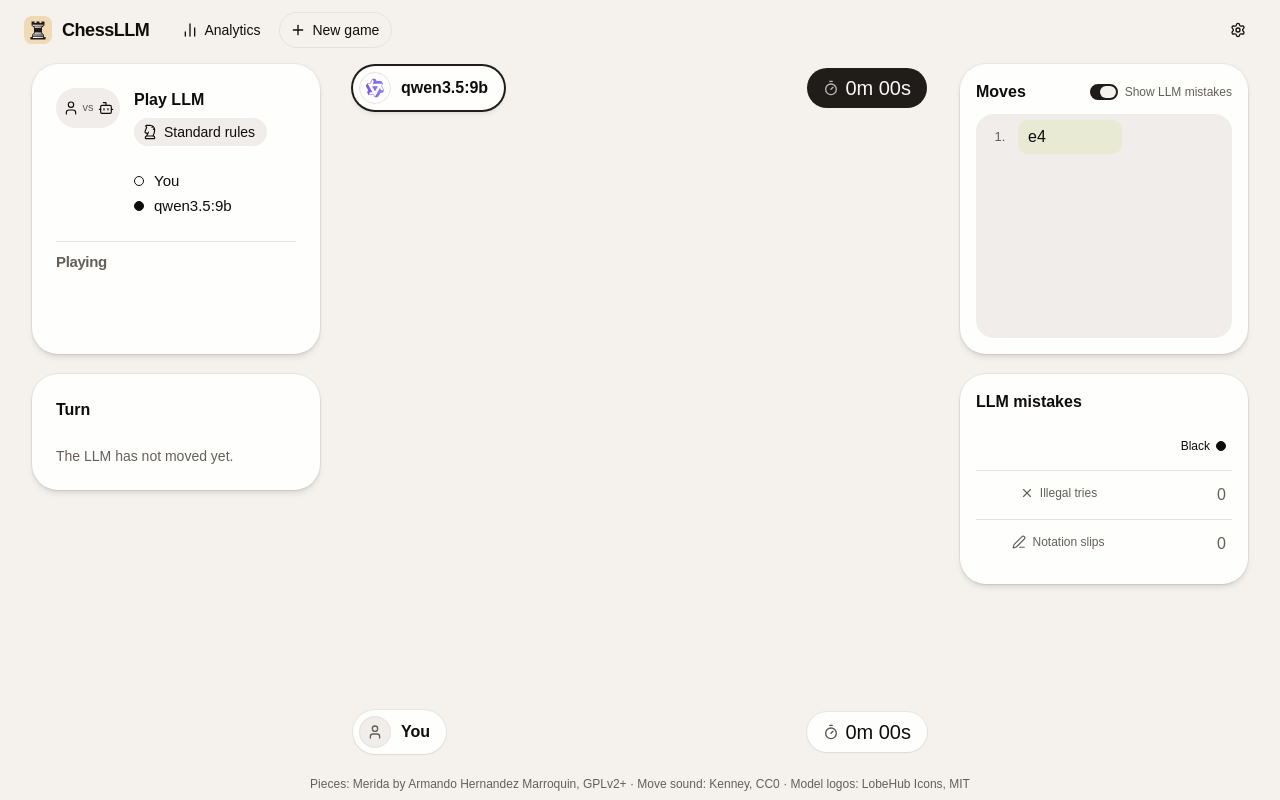
Scenario: New game opens the sheet with the running game's settings; starting replaces the game, dropping its LLM turn
The width and height of the screenshot is (1280, 800).
Click the button "New game": (336, 30) [280,12,392,48]
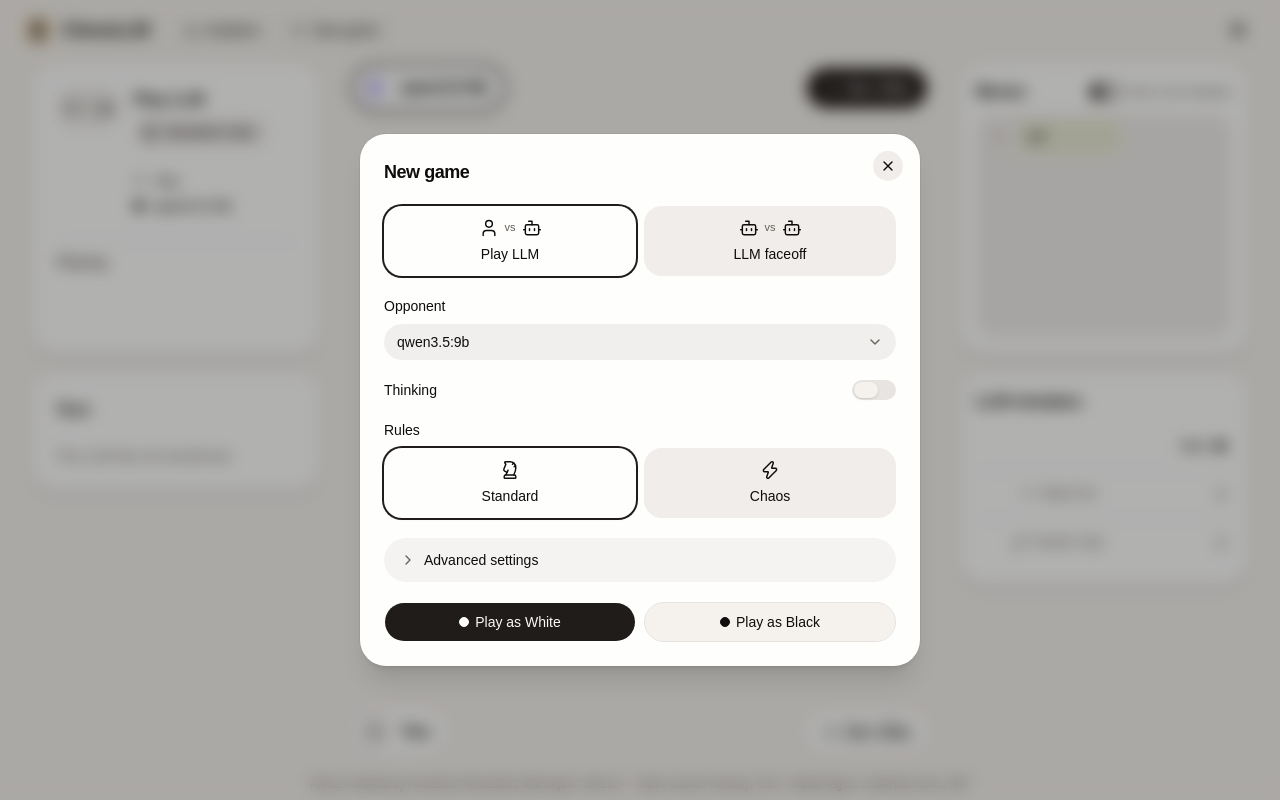
Click the button "Play as White": (510, 622) [384,602,636,642]
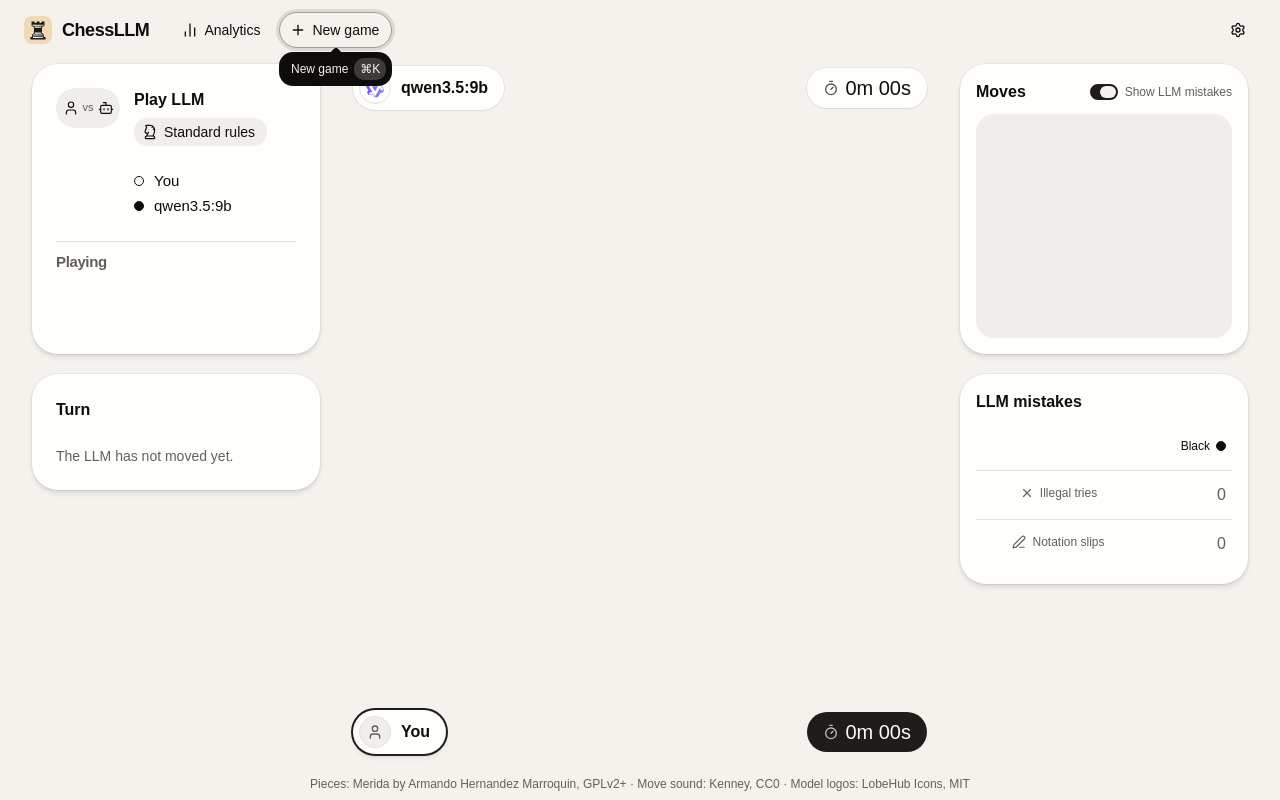
expect the dialog is gone: met
